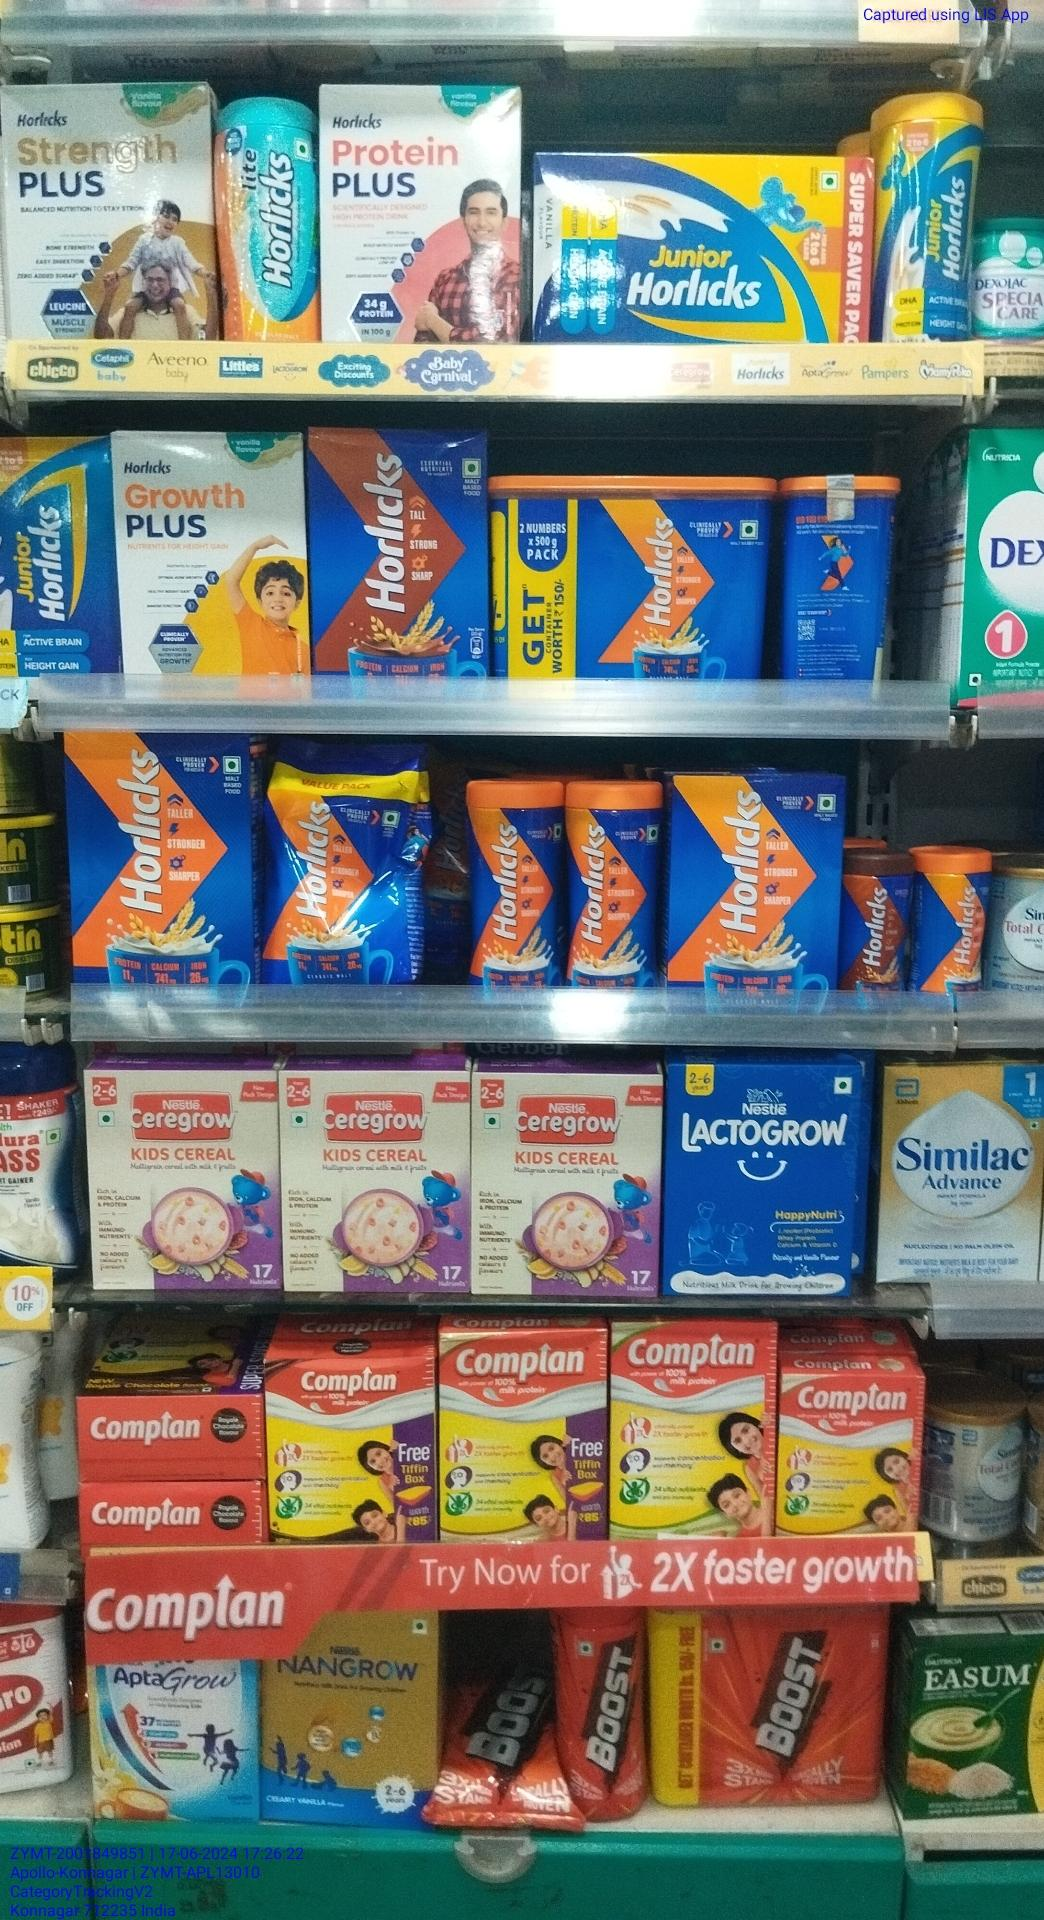COMPLAN_CHOCOLATE_500_GMS_PACK: (264, 1351, 438, 1546)
COMPLAN_KESAR_BADAM_200_GMS_PACK: (778, 1378, 915, 1537)
COMPLAN_KESAR_BADAM_500_GMS_PACK: (444, 1330, 612, 1549)
COMPLAN_PISTA_BADAM_500_GMS_PACK: (616, 1320, 777, 1541)
HORLICKS_JUNIOR_VANILLA_500_GM_JAR: (877, 93, 973, 342)
HORLICKS_LITE_REGULAR_MALT_500_GM_JAR: (221, 99, 319, 346)
HORLICK_CHOCOLATE_200_G_JAR: (850, 848, 910, 996)
HORLICK_CHOCOLATE_500_G_PACK: (310, 425, 487, 676)
HORLICK_CLASSIC_MALT_200_G_JAR: (918, 847, 986, 995)
HORLICK_CLASSIC_MALT_500_G_JAR: (469, 781, 561, 992), (570, 780, 660, 986)
HORLICK_CLASSIC_MALT_500_G_PACK: (671, 765, 840, 1008)
HORLICK_CLASSIC_MALT_750_G_POUCH: (269, 747, 414, 990)
HORLICK_MALT_1_KG_CONTAINER: (495, 476, 765, 679)
